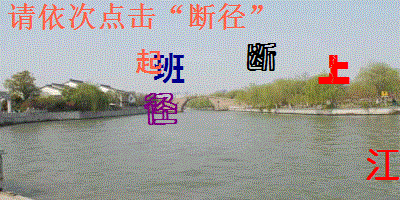result: (185, 1, 246, 32)
text: (142, 90, 181, 128), (364, 147, 400, 183), (316, 53, 353, 85), (151, 52, 186, 85), (245, 40, 278, 73), (134, 47, 163, 77)
